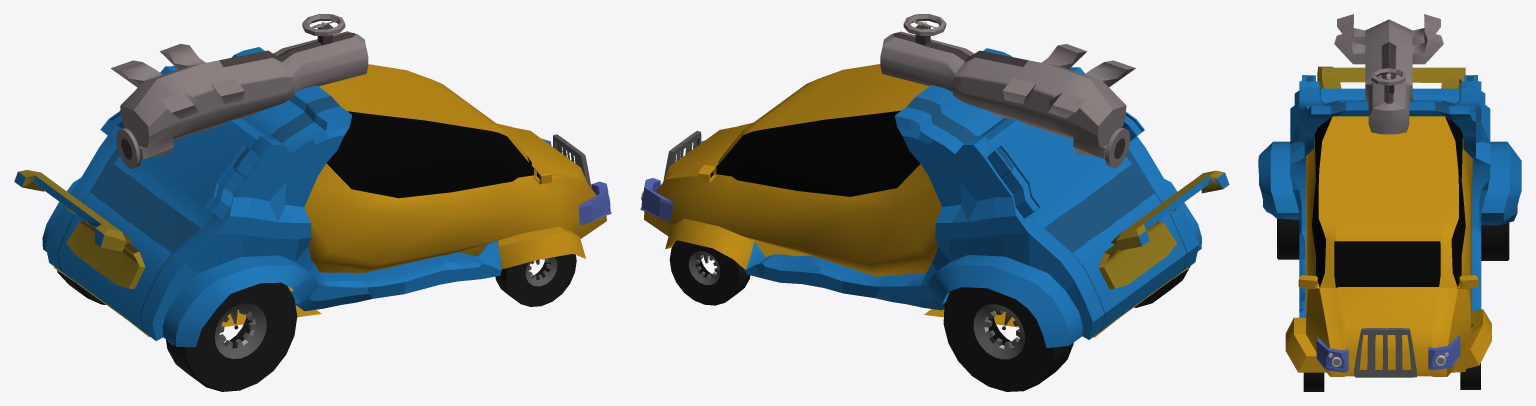
Rendered from AutoAriel.fbx.
3 views of the same model, side by side, from view 1: azimuth 30°, elevation 25°; view 2: azimuth 150°, elevation 25°; view 3: azimuth 270°, elevation 25° (orthographic). The views are drawn at different scales.
Parts seen in each view (by area): view 1: Trasero, polySurface3, Carrocería, pPlane1, LLanta_trasera_rgt, Spoiler, Llanta_Delantera_rgt, FarosTra1, pCube9, pDisc1, Defensa, pTorus1; view 2: Trasero, polySurface3, Carrocería, pPlane1, LLanta_trasera_rgt1, Spoiler, Llanta_Delantera_rgt1, FarosTra1, pCube8, pDisc1, pTorus1, Defensa; view 3: Carrocería, polySurface3, Trasero, pPlane1, Defensa, Spoiler, LLanta_trasera_rgt1, LLanta_trasera_rgt, pCube9, pCube8, Retrovisores, Llanta_Delantera_rgt1 (+3 smaller).
Boxes of the visible parts, bbox=[...] form: Trasero: bbox=[42, 47, 501, 347]; polySurface3: bbox=[53, 123, 606, 336]; Carrocería: bbox=[318, 64, 533, 198]; pPlane1: bbox=[110, 24, 368, 159]; LLanta_trasera_rgt: bbox=[166, 282, 297, 391]; Spoiler: bbox=[14, 170, 144, 288]; Llanta_Delantera_rgt: bbox=[495, 254, 576, 306]; FarosTra1: bbox=[100, 110, 259, 218]; pCube9: bbox=[578, 181, 611, 225]; pDisc1: bbox=[116, 128, 141, 168]; Defensa: bbox=[553, 134, 591, 188]; pTorus1: bbox=[302, 14, 345, 36]; Trasero: bbox=[744, 48, 1201, 347]; polySurface3: bbox=[644, 123, 1189, 337]; Carrocería: bbox=[716, 64, 929, 196]; pPlane1: bbox=[880, 25, 1135, 158]; LLanta_trasera_rgt1: bbox=[943, 287, 1073, 391]; Spoiler: bbox=[1098, 170, 1229, 289]; Llanta_Delantera_rgt1: bbox=[669, 240, 750, 305]; FarosTra1: bbox=[987, 112, 1144, 218]; pCube8: bbox=[640, 178, 673, 221]; pDisc1: bbox=[1105, 127, 1129, 168]; pTorus1: bbox=[903, 14, 946, 35]; Defensa: bbox=[663, 131, 701, 179]; Carrocería: bbox=[1312, 116, 1465, 287]; polySurface3: bbox=[1285, 138, 1491, 376]; Trasero: bbox=[1258, 81, 1521, 317]; pPlane1: bbox=[1334, 14, 1443, 134]; Defensa: bbox=[1354, 328, 1416, 377]; Spoiler: bbox=[1317, 66, 1465, 88]; LLanta_trasera_rgt1: bbox=[1481, 222, 1509, 260]; LLanta_trasera_rgt: bbox=[1277, 218, 1299, 259]; pCube9: bbox=[1316, 337, 1348, 372]; pCube8: bbox=[1428, 335, 1460, 370]; Retrovisores: bbox=[1298, 275, 1478, 289]; Llanta_Delantera_rgt1: bbox=[1460, 324, 1480, 389].
Bounding box in the file's own units: 10.1 × 5.35 × 5.2.
Materials: 9 (9 with a texture image).
